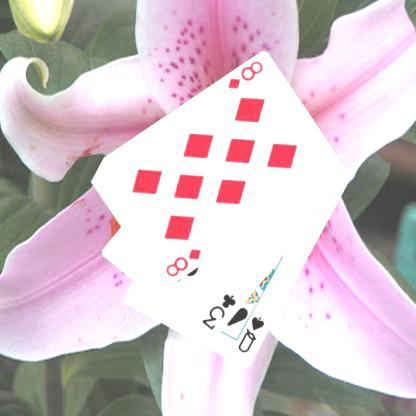3C: (198, 291, 238, 332)
8D: (162, 246, 203, 279), (224, 58, 265, 91)
QS: (235, 314, 266, 354)
